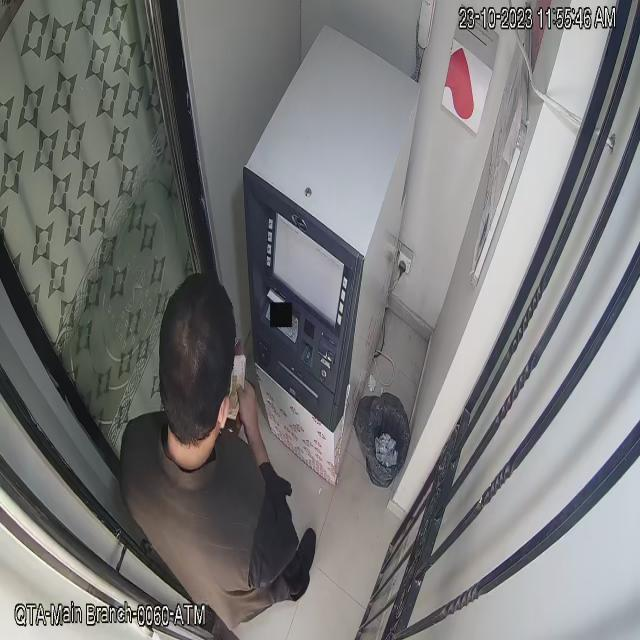note: (226, 345, 247, 424)
